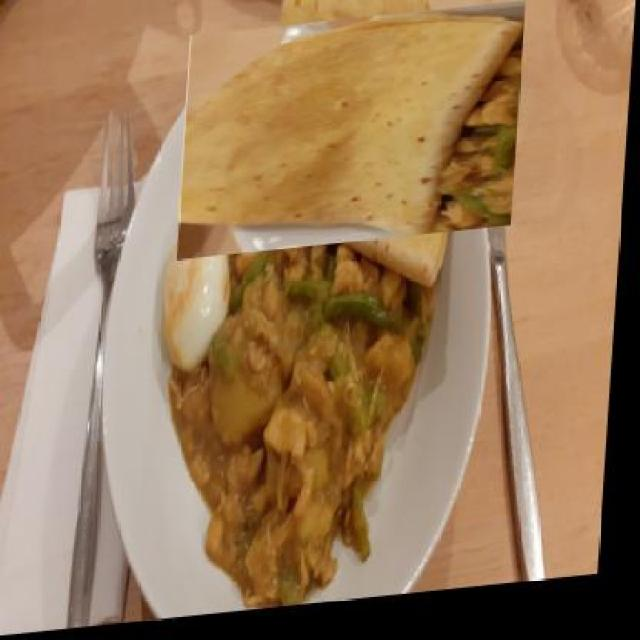chapati: (205, 0, 502, 291)
